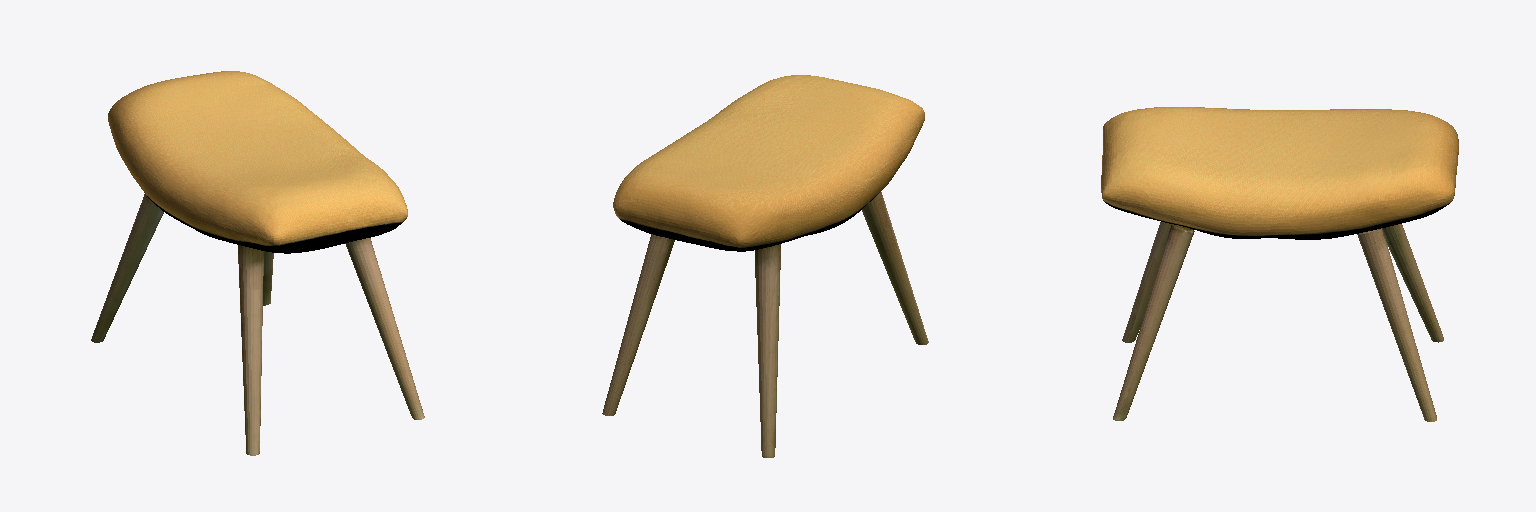
The picture shows the model from 3 angles: view 1: azimuth 30°, elevation 25°; view 2: azimuth 150°, elevation 25°; view 3: azimuth 270°, elevation 25°; orthographic projection.
Size of the model in its own units: 3.16 by 3.83 by 5.07.
1 materials, 1 textured.